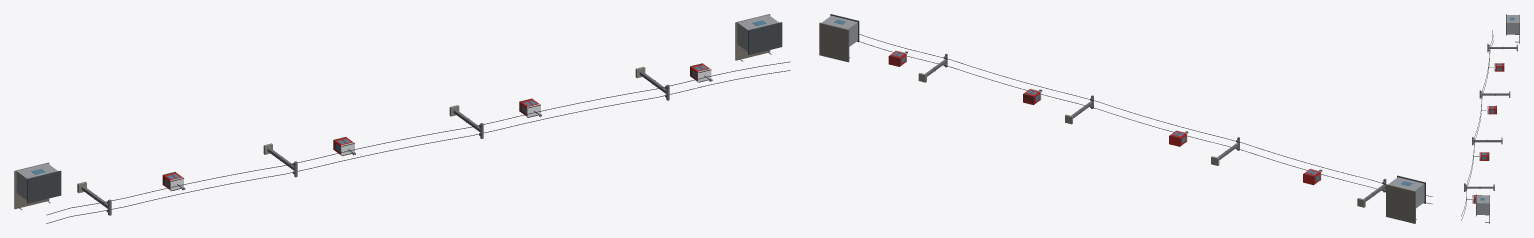
File: alpine_trail_original.obj
The picture shows the model from 3 angles, left to right: view 1: azimuth 30°, elevation 25°; view 2: azimuth 150°, elevation 25°; view 3: azimuth 270°, elevation 25°; orthographic projection. The views are drawn at different scales.
Visible parts, largest first — view 1: alpine_trail_sroof, alpine_trail_cable, alpine_trail_station, alpine_trail_steel, alpine_trail_platform, alpine_trail_roof, alpine_trail_cabin, alpine_trail_window; view 2: alpine_trail_platform, alpine_trail_cable, alpine_trail_station, alpine_trail_cabin, alpine_trail_steel, alpine_trail_window, alpine_trail_concrete; view 3: alpine_trail_station, alpine_trail_steel, alpine_trail_cable, alpine_trail_cabin, alpine_trail_window, alpine_trail_trim, alpine_trail_platform, alpine_trail_concrete, alpine_trail_sroof.
Part boxes in pixels (x1,y1,x2,y2): alpine_trail_sroof: (27,22,782,203); alpine_trail_cable: (46,61,790,223); alpine_trail_station: (16,15,778,200); alpine_trail_steel: (18,51,771,215); alpine_trail_platform: (14,14,770,209); alpine_trail_roof: (170,68,711,191); alpine_trail_cabin: (163,64,709,189); alpine_trail_window: (31,20,766,186); alpine_trail_platform: (819,22,1415,223); alpine_trail_cable: (859,34,1432,204); alpine_trail_station: (821,15,1424,208); alpine_trail_cabin: (888,51,1320,184); alpine_trail_steel: (849,51,1416,219); alpine_trail_window: (834,19,1412,185); alpine_trail_concrete: (918,73,1365,207); alpine_trail_station: (1476,15,1519,214); alpine_trail_steel: (1464,34,1518,222); alpine_trail_cable: (1461,30,1493,220); alpine_trail_cabin: (1474,63,1503,203); alpine_trail_window: (1475,17,1514,202); alpine_trail_trim: (1472,63,1504,203); alpine_trail_platform: (1489,14,1519,223); alpine_trail_concrete: (1493,44,1517,190); alpine_trail_sroof: (1476,14,1506,216).
Size of the model in its own units: 97.6 by 5.05 by 12.86.
